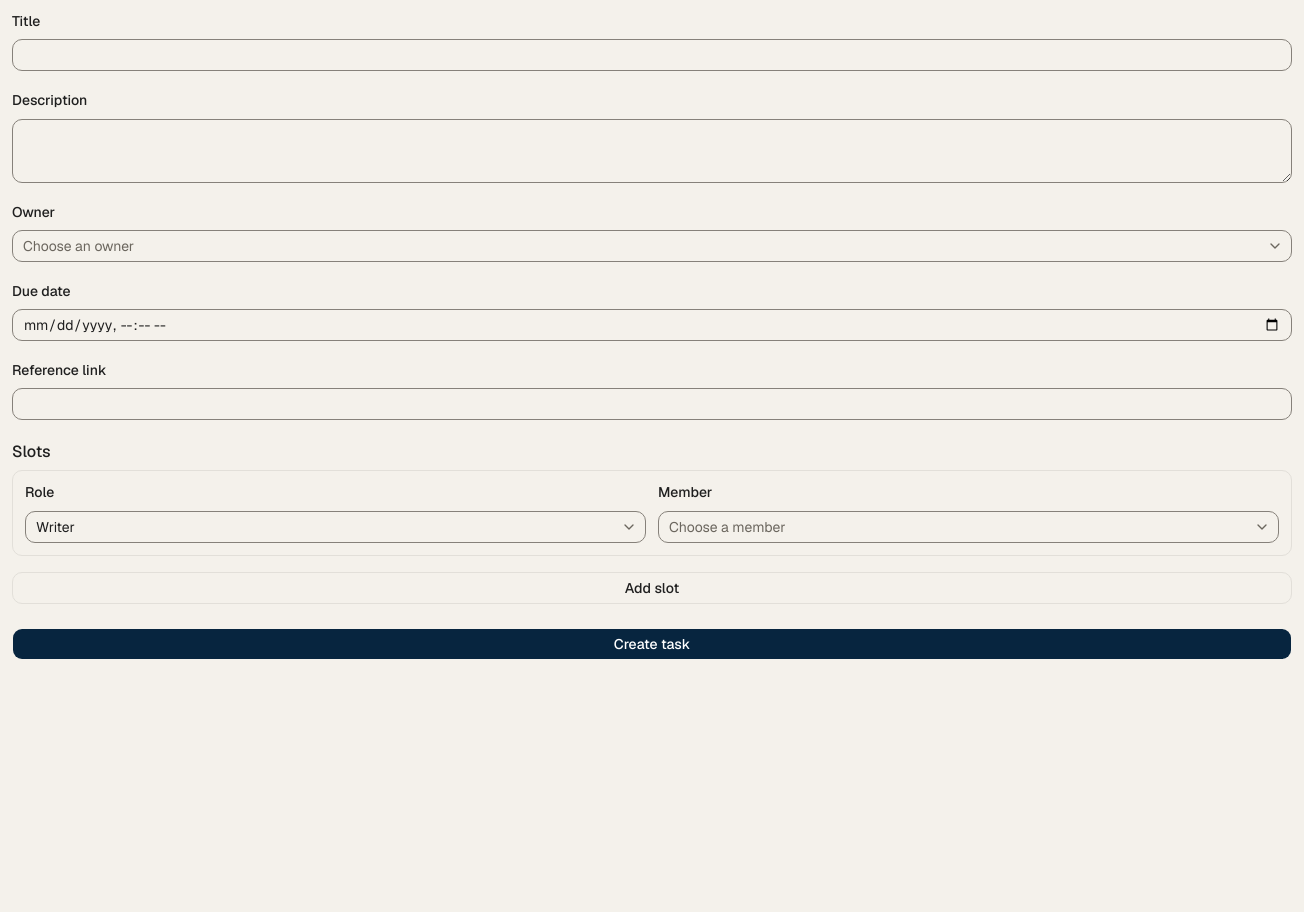
it: TaskForm › clears the chosen member when the slot's role changes
Step 1. Click the dropdown named "Role" → {"x": 55, "y": 526}, box left=25, top=510, right=646, bottom=542
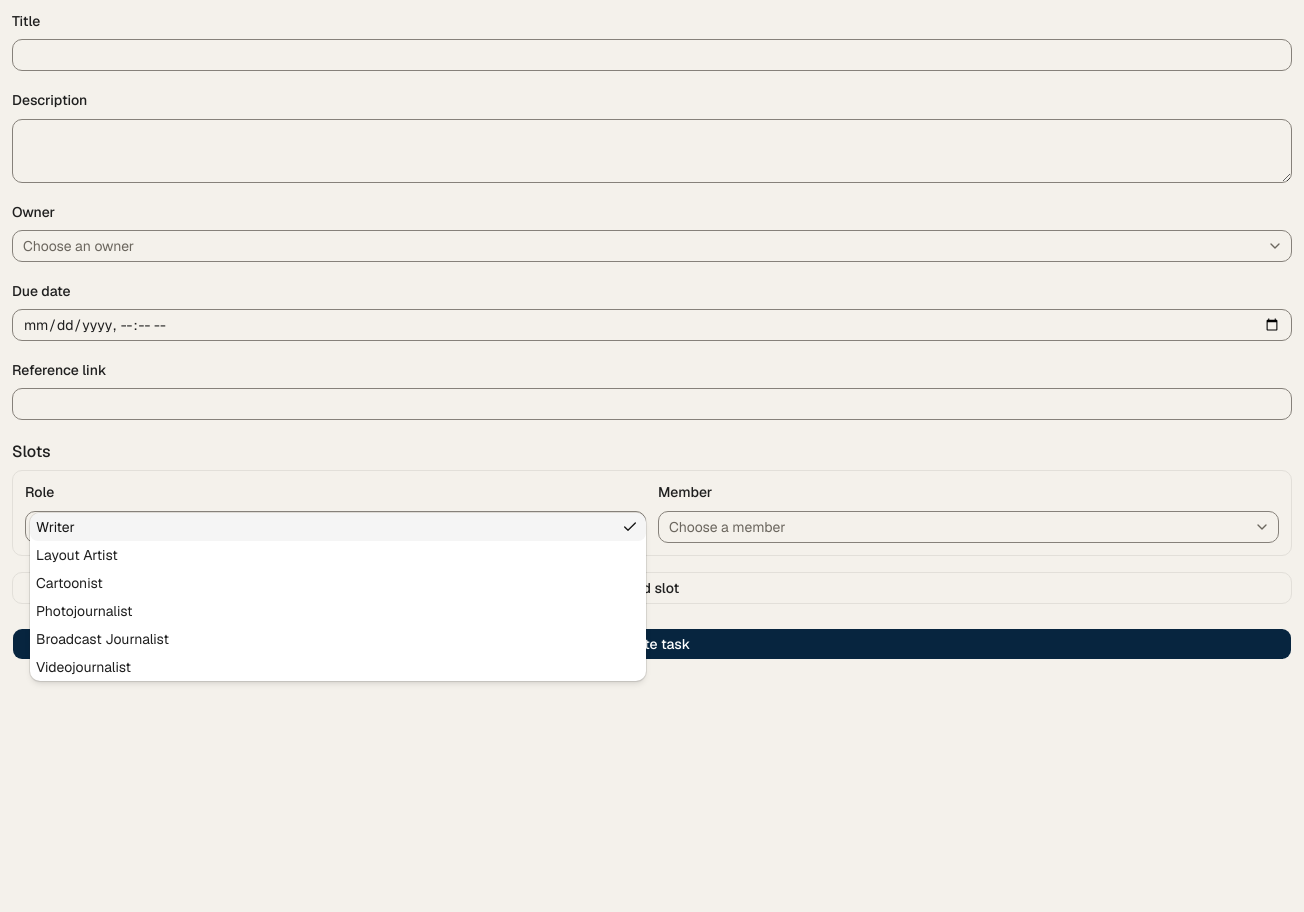
Step 2. Click the option "Layout Artist" → {"x": 77, "y": 554}, box left=36, top=546, right=118, bottom=564
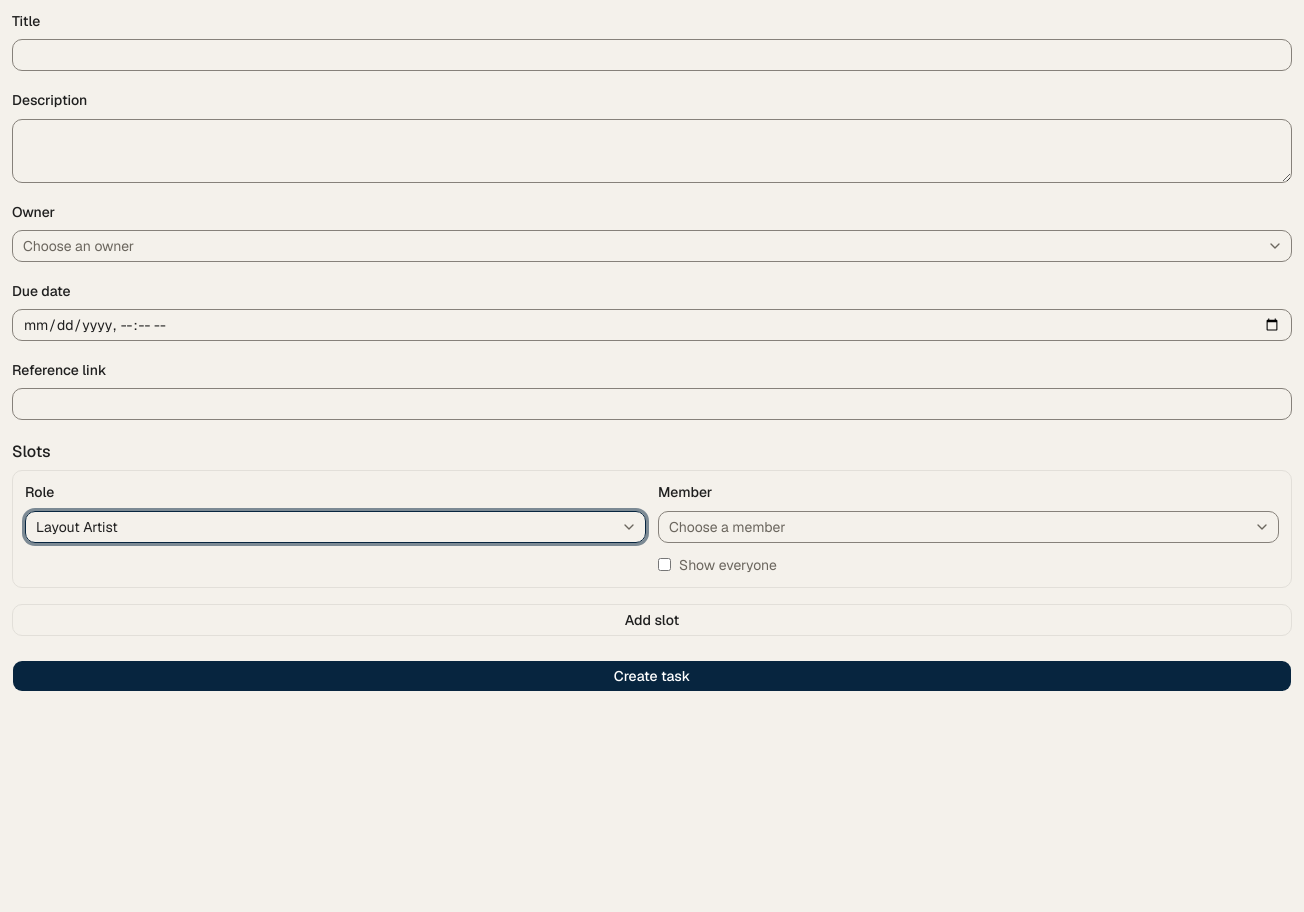
Step 3. Click the dropdown labelled "member" → {"x": 727, "y": 526}, box left=658, top=510, right=1279, bottom=542
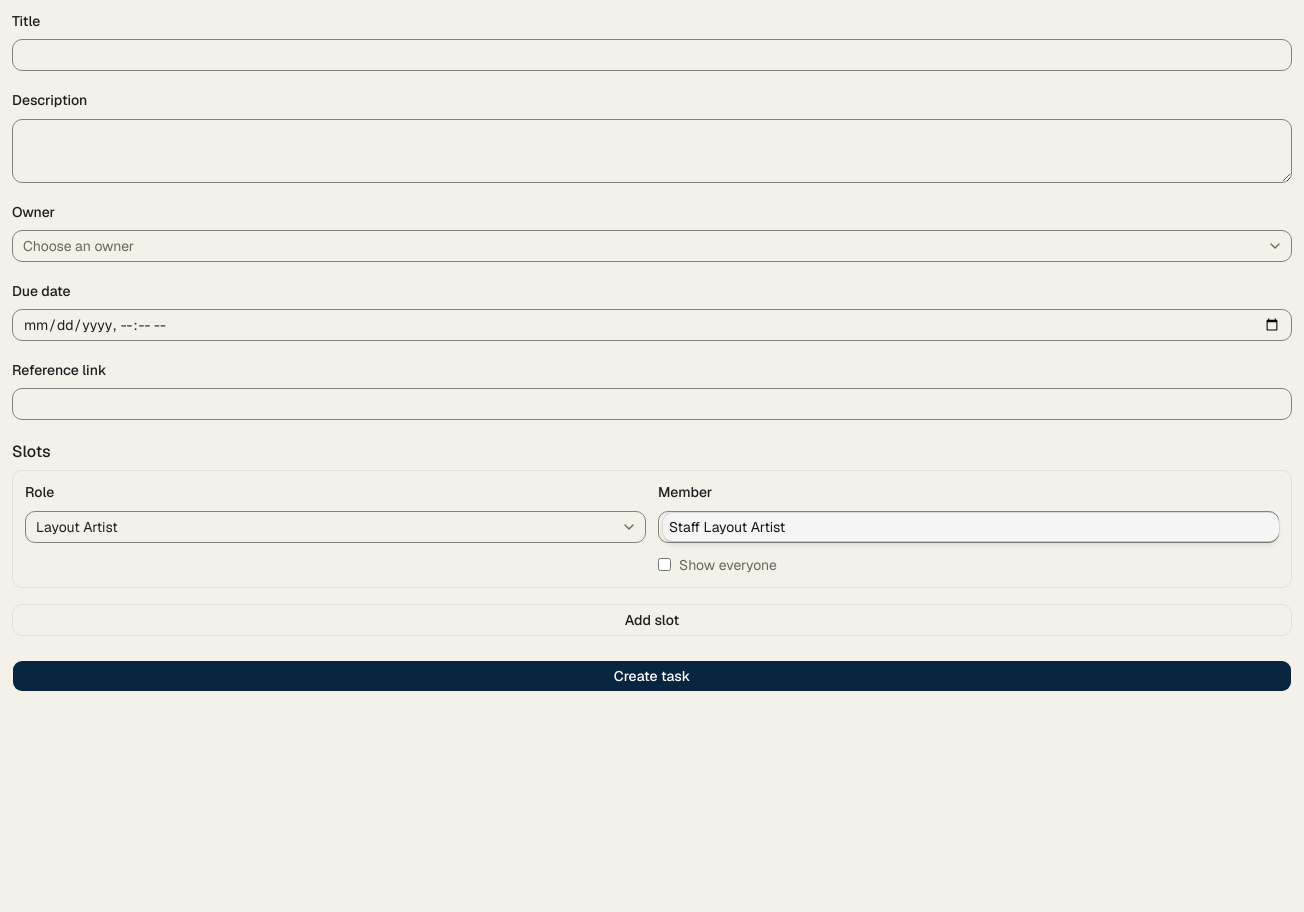
Step 4. Click the option "Staff Layout Artist" → {"x": 727, "y": 526}, box left=663, top=512, right=1279, bottom=540
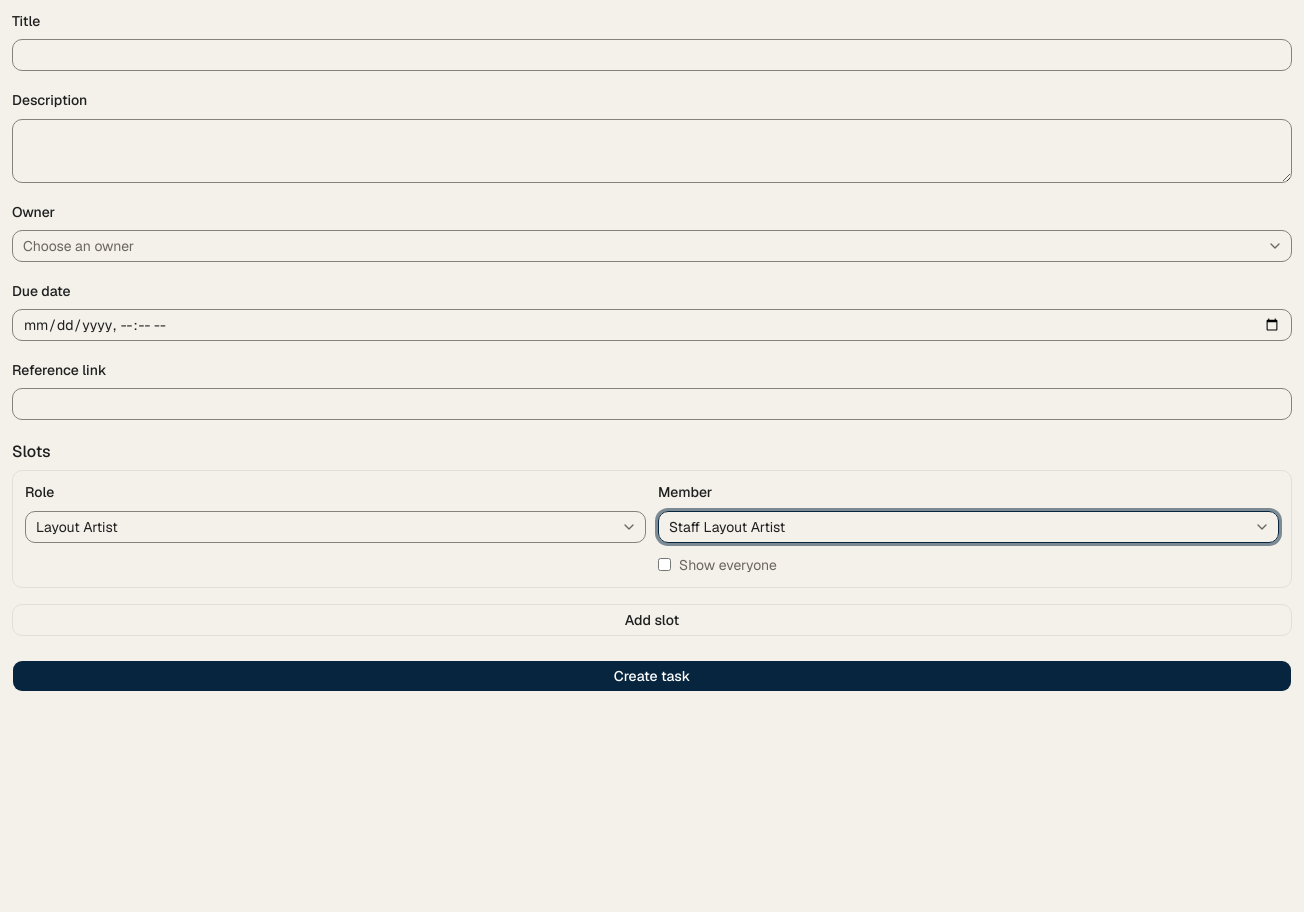
Check: the dropdown named "Member" reads "Staff Layout Artist", box left=658, top=510, right=1279, bottom=542
Step 5. Click the dropdown named "Role" → {"x": 77, "y": 526}, box left=25, top=510, right=646, bottom=542
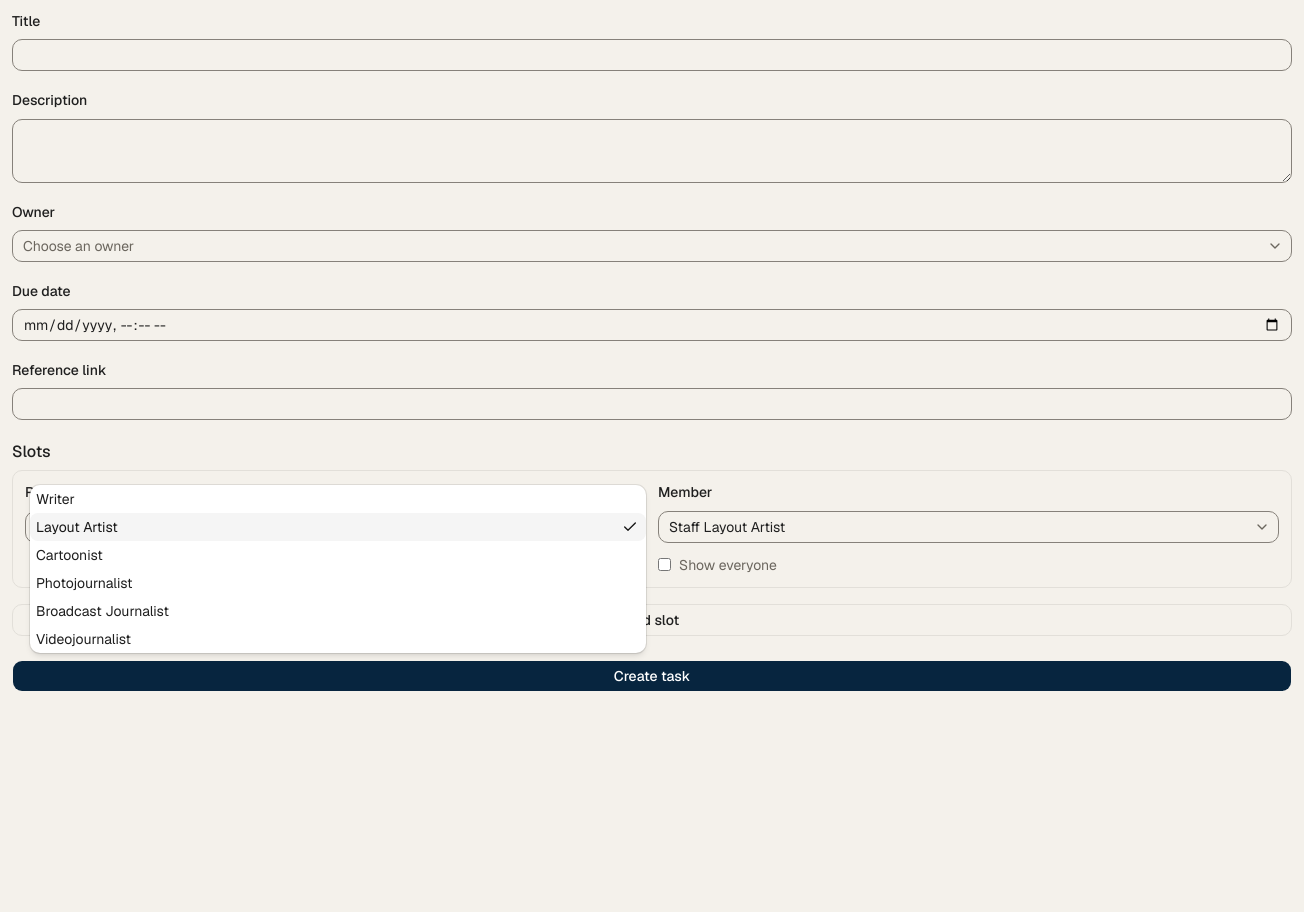
Step 6. Click the option "Cartoonist" → {"x": 69, "y": 554}, box left=36, top=546, right=103, bottom=564
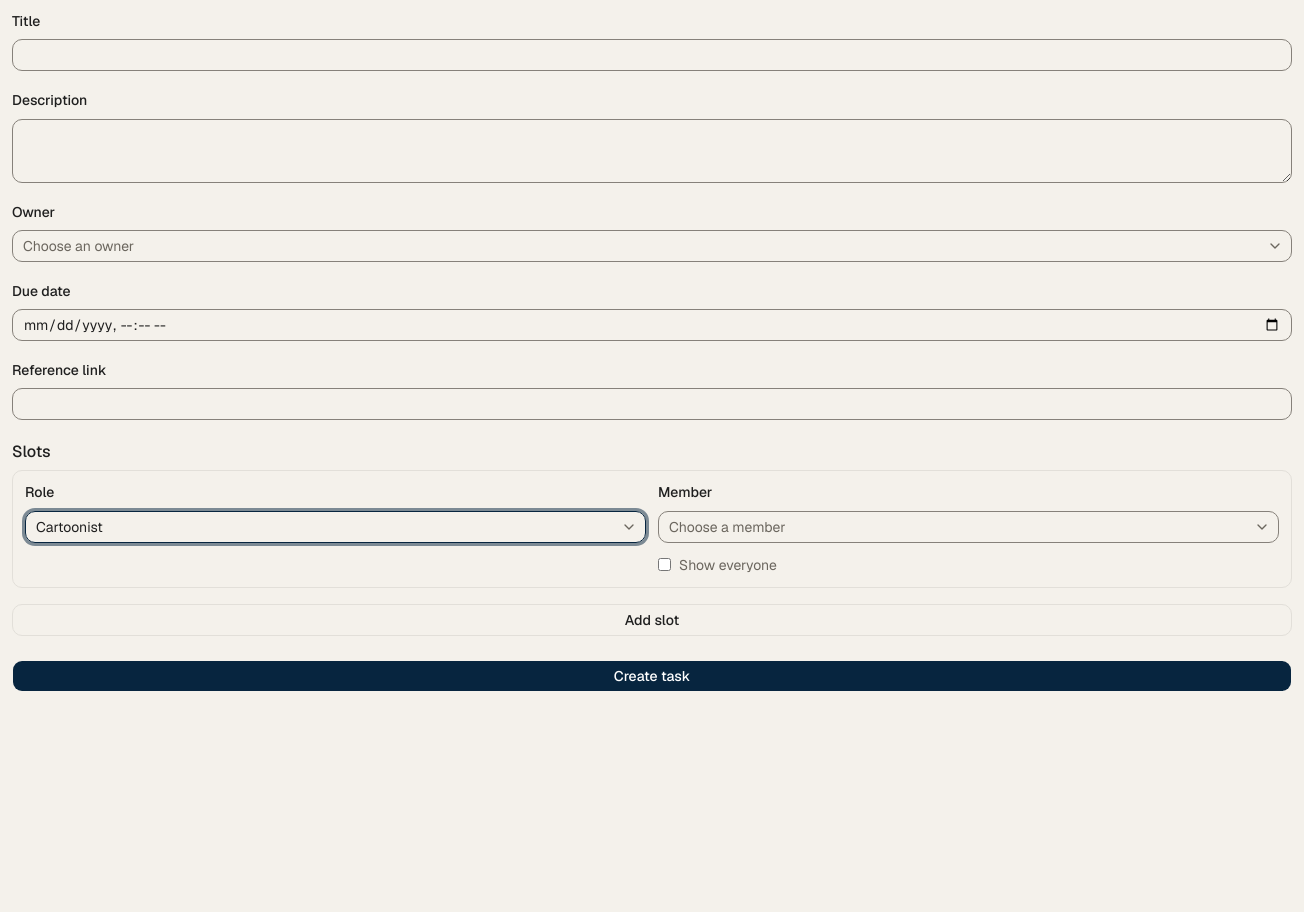
Check: the dropdown labelled "member" reads "Choose a member", box left=658, top=510, right=1279, bottom=542
